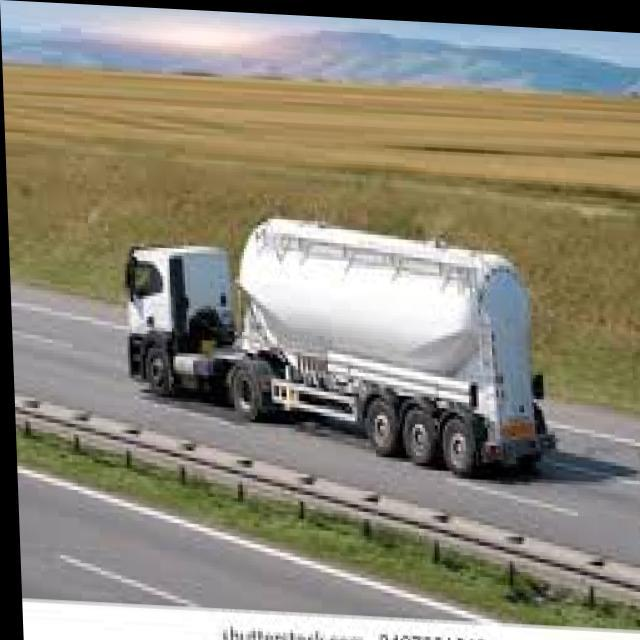covered: (115, 200, 556, 474)
